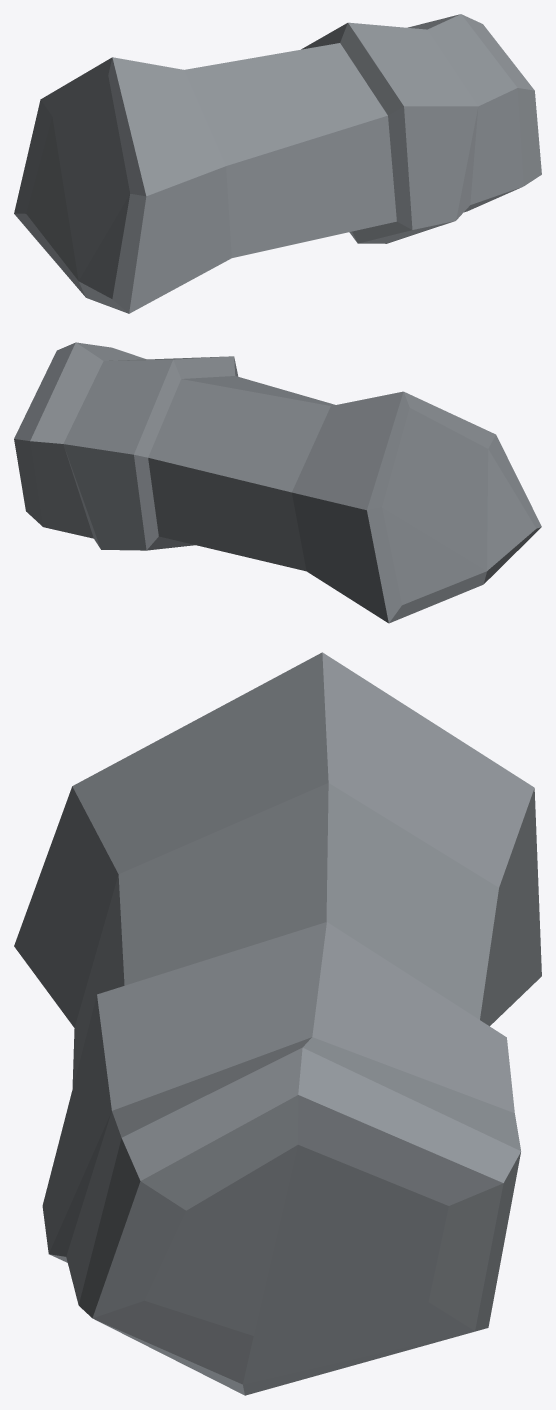
File: Chr_ArmUpperLeft_Male_15_Static.fbx
The picture shows the model from 3 angles, top to bottom: view 1: azimuth 30°, elevation 25°; view 2: azimuth 150°, elevation 25°; view 3: azimuth 270°, elevation 25°; orthographic projection. The views are drawn at different scales.
Parts seen in each view (by area): view 1: Chr_ArmUpperLeft_Male_15_Static; view 2: Chr_ArmUpperLeft_Male_15_Static; view 3: Chr_ArmUpperLeft_Male_15_Static.
Part boxes in pixels (x1,y1,x2,y2): Chr_ArmUpperLeft_Male_15_Static: [14, 14, 541, 313]; Chr_ArmUpperLeft_Male_15_Static: [14, 342, 541, 623]; Chr_ArmUpperLeft_Male_15_Static: [14, 652, 541, 1395].
Size of the model in its own units: 0.3257 by 0.1641 by 0.1736.
